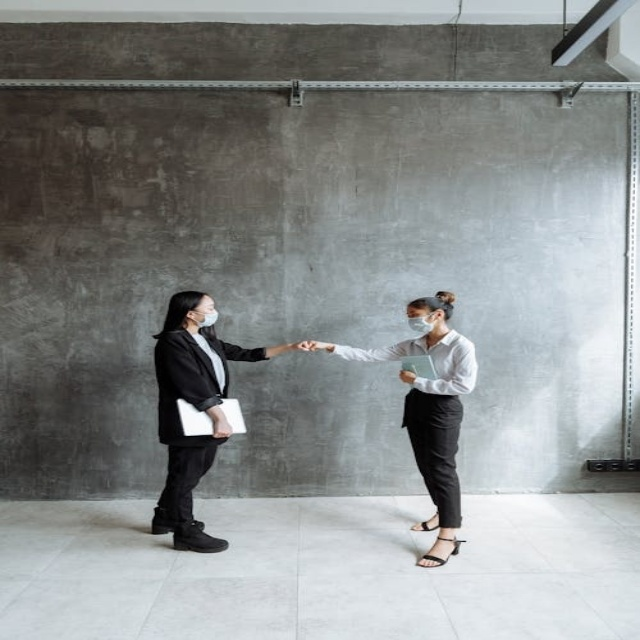Mascara: (407, 313, 439, 332), (189, 310, 219, 327)
Sin_gafas: (196, 303, 221, 311), (406, 309, 422, 321)
Sin_guantes: (207, 408, 239, 441), (311, 335, 329, 359), (292, 335, 311, 357), (396, 370, 416, 384)
